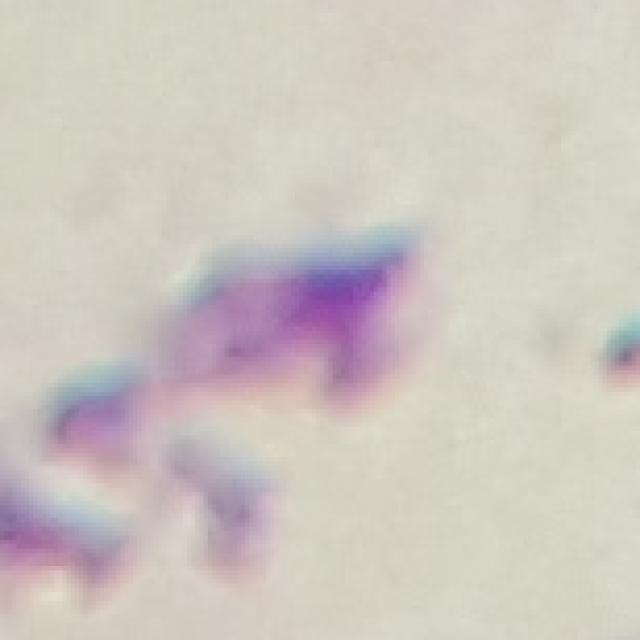non-sperm: (107, 226, 426, 426)
